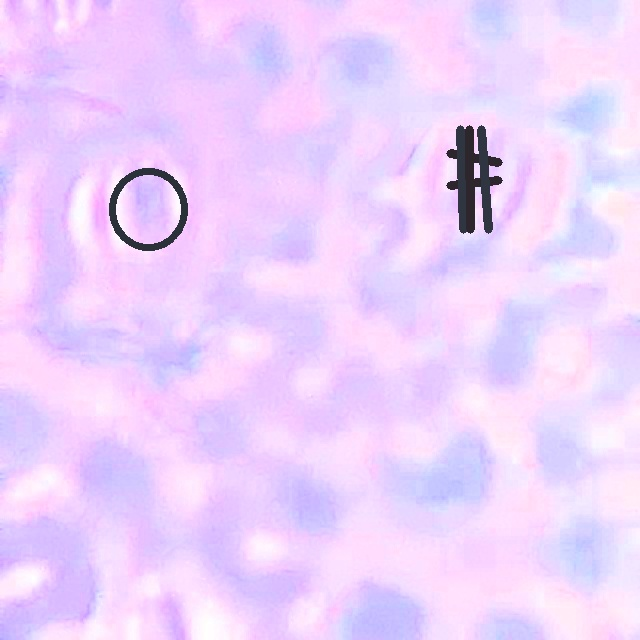close: (108, 167, 189, 251)
open: (446, 125, 502, 233)
